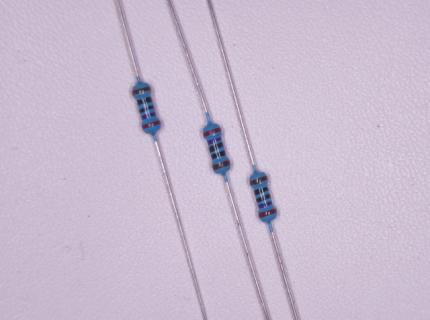Red band: (258, 208, 277, 218), (142, 120, 161, 130), (203, 127, 221, 137)
Violet band: (142, 111, 157, 120), (258, 201, 273, 210), (207, 137, 221, 145)
